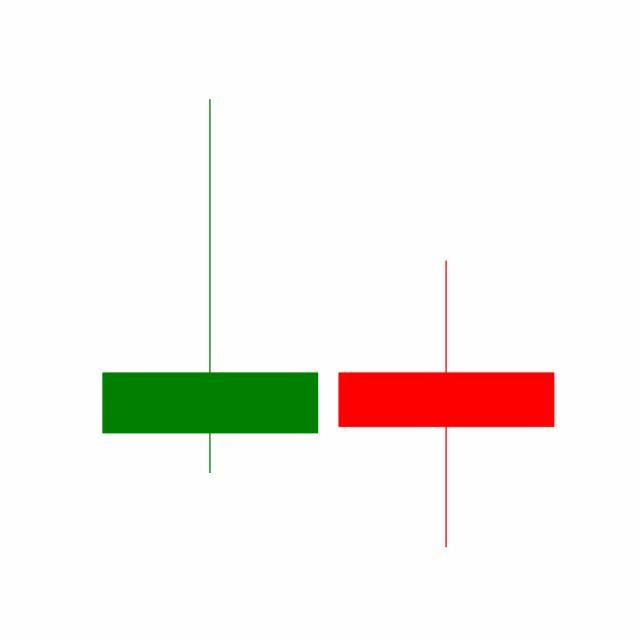Spinning Top: (328, 259, 566, 552)
